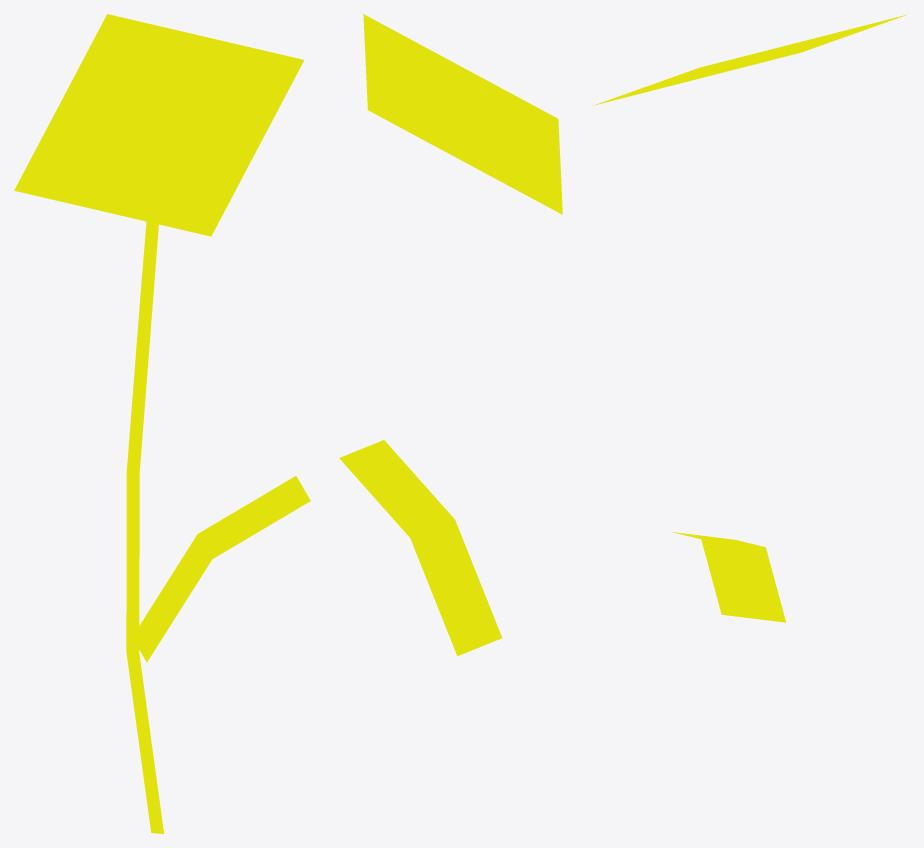
The model's file is Foliage_Flowers_Purple_Flower_Purple_Low.glb.
The picture shows the model from 3 angles, left to right: view 1: azimuth 30°, elevation 25°; view 2: azimuth 150°, elevation 25°; view 3: azimuth 270°, elevation 25°; orthographic projection. The views are drawn at different scales.
Visible parts, largest first — view 1: purple.low; view 2: purple.low; view 3: purple.low.
Part boxes in pixels (left/top/right/bottom): purple.low: left=14, top=14, right=310, bottom=833; purple.low: left=339, top=14, right=562, bottom=656; purple.low: left=592, top=14, right=907, bottom=622.
Size of the model in its own units: 0.0669 by 0.1934 by 0.0674.
Materials: 1 (1 with a texture image).
